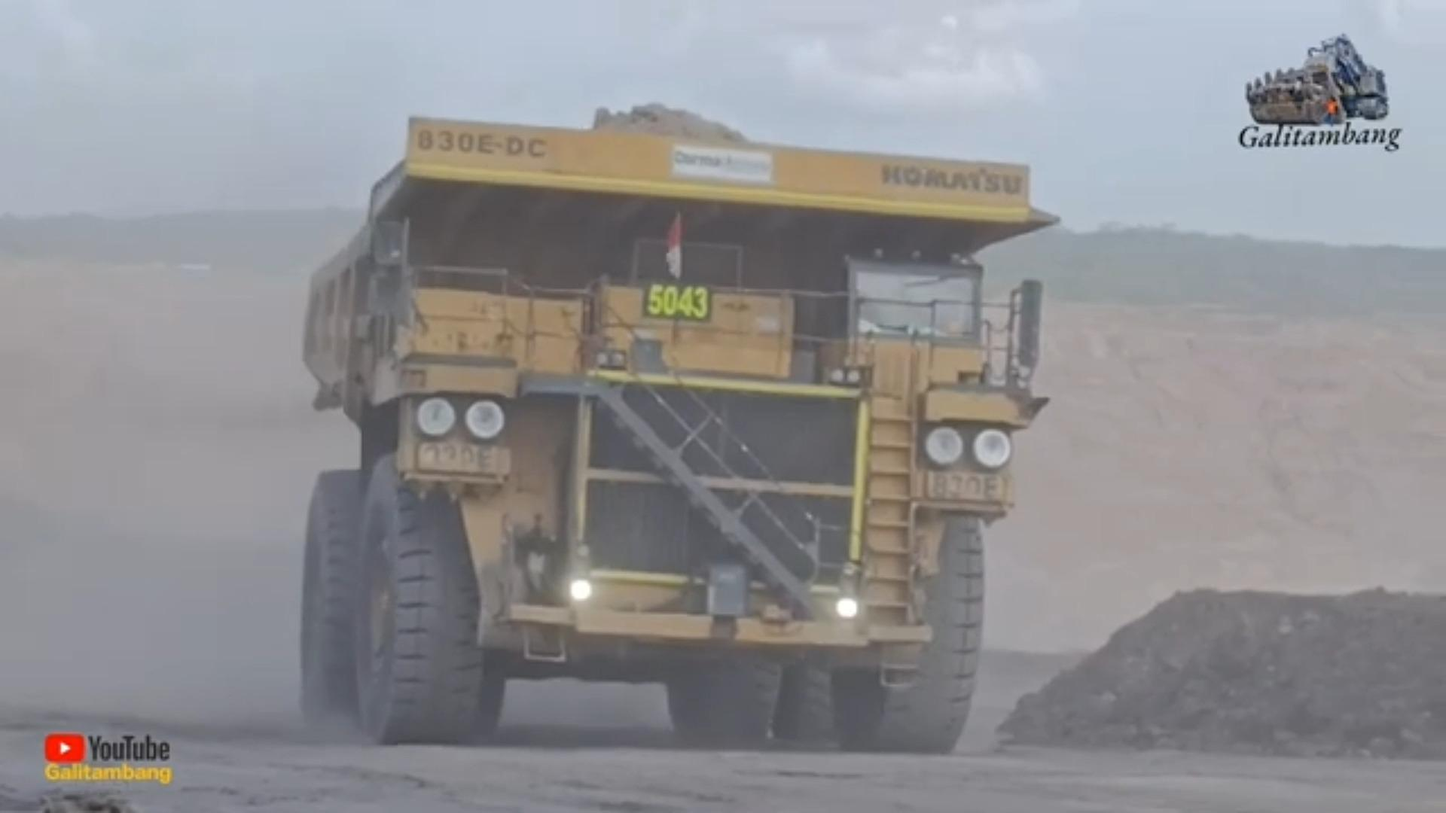HD-Truck: (299, 117, 1057, 754)
